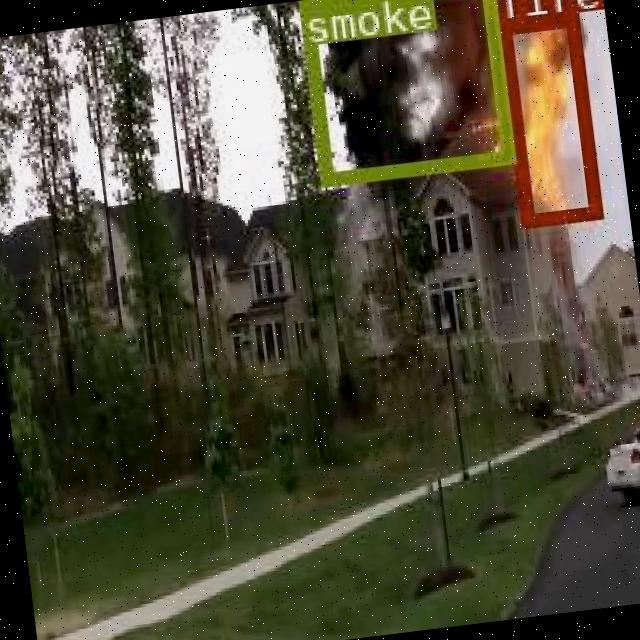fire: (494, 10, 598, 225)
smoke: (296, 0, 512, 185)
